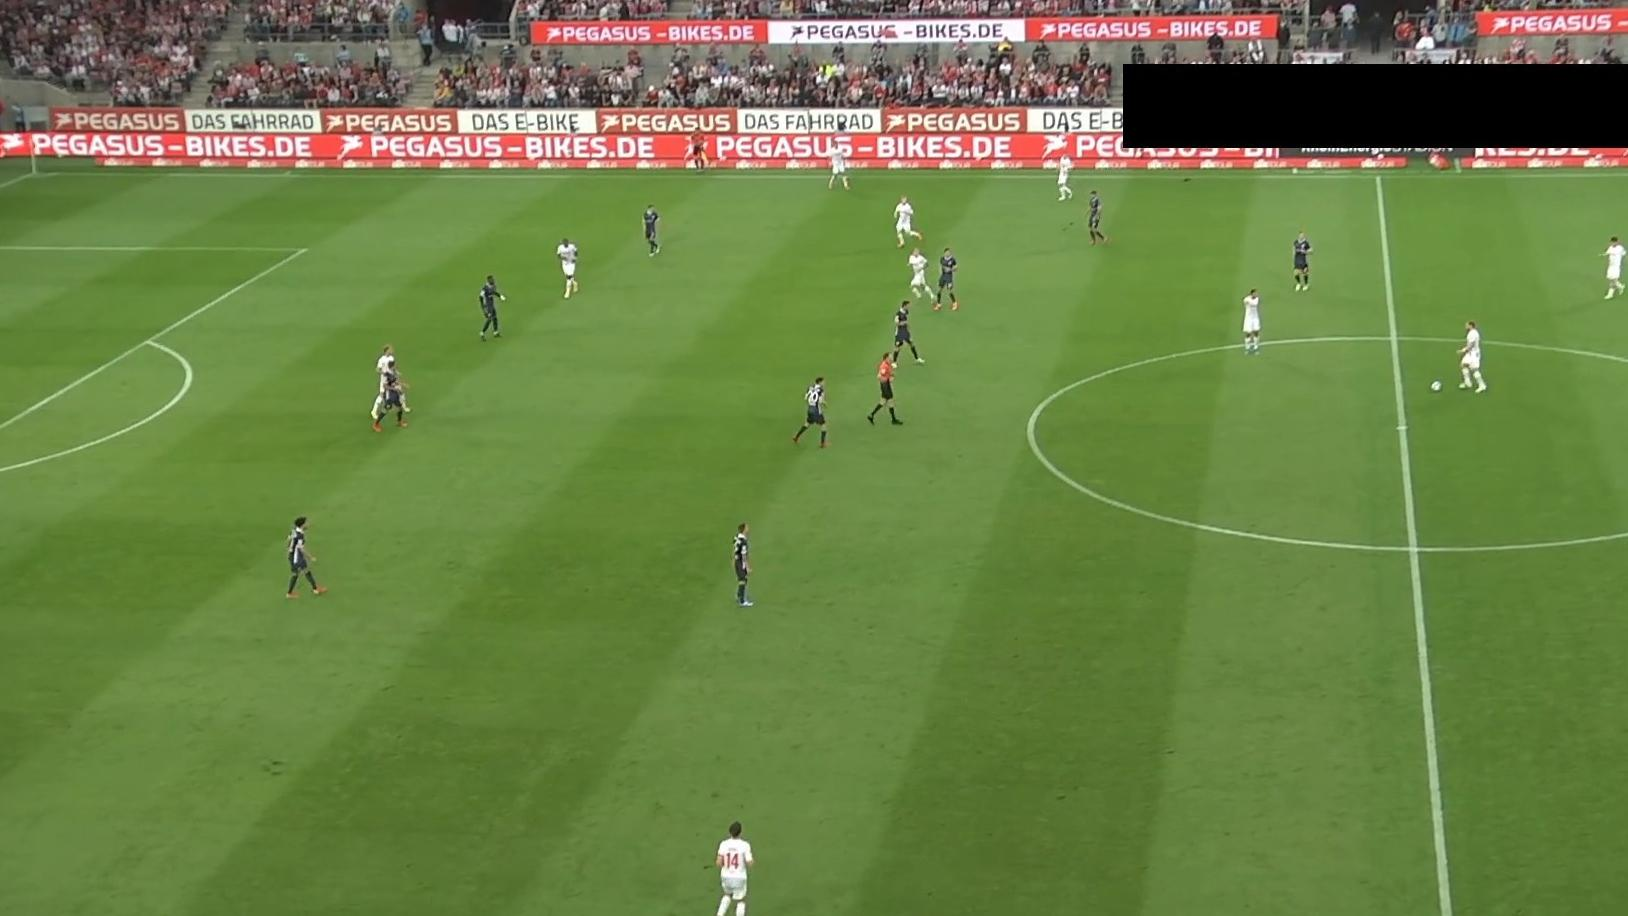ball: (1429, 379, 1444, 394)
